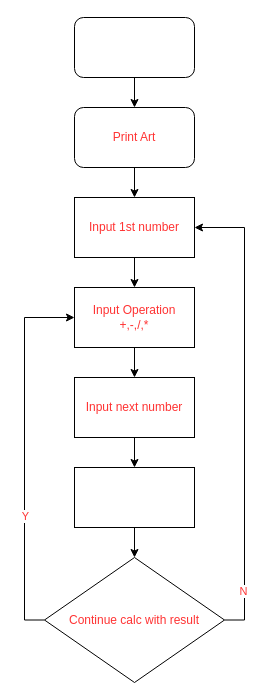
Image size: 270x700. Some labels were removed from this diagram. Here are the shapes that lost their labels. From the top down, the box of each, then its label:
(74, 16, 194, 78): Program start
(74, 466, 194, 528): Print result
